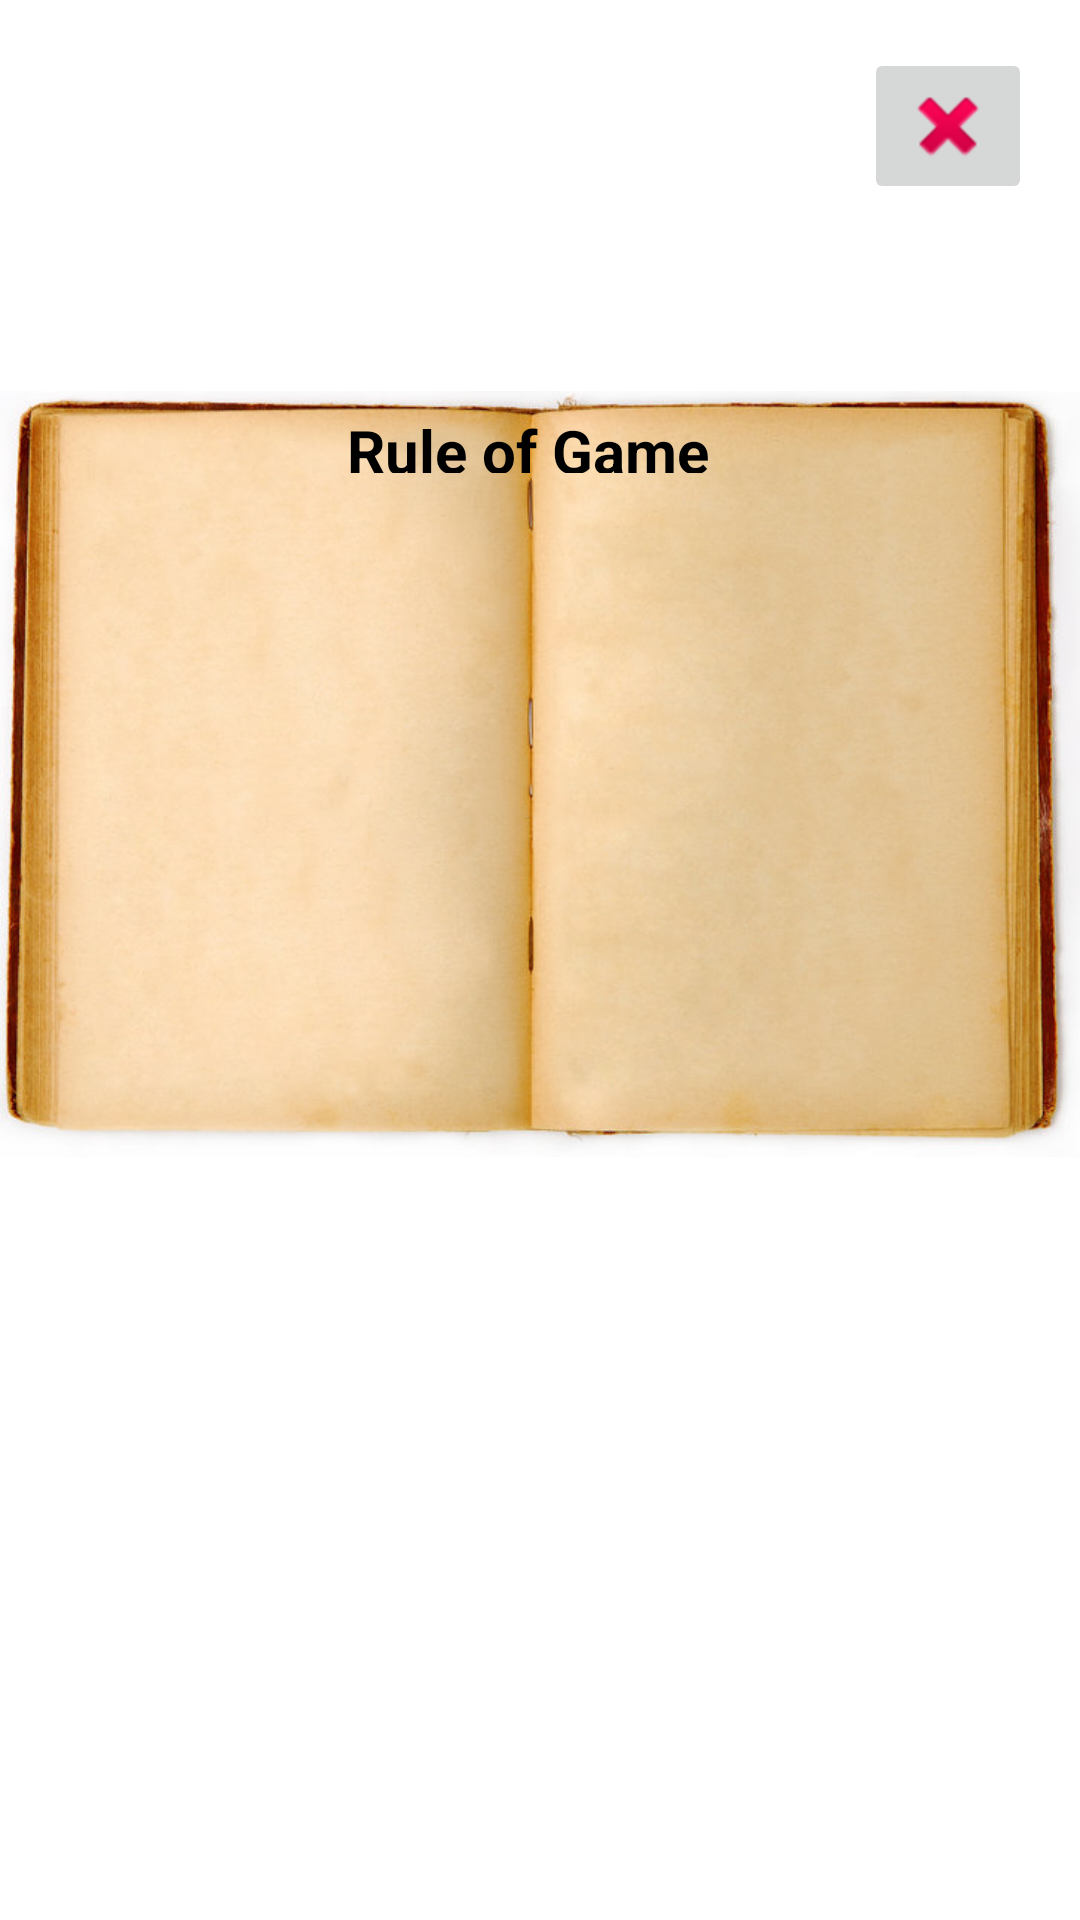

Locate icon controls on the screen. Image size 1080w x 1920h, boxes as (x1, y1, x2, y2).
delete: (876, 66, 1020, 186)
